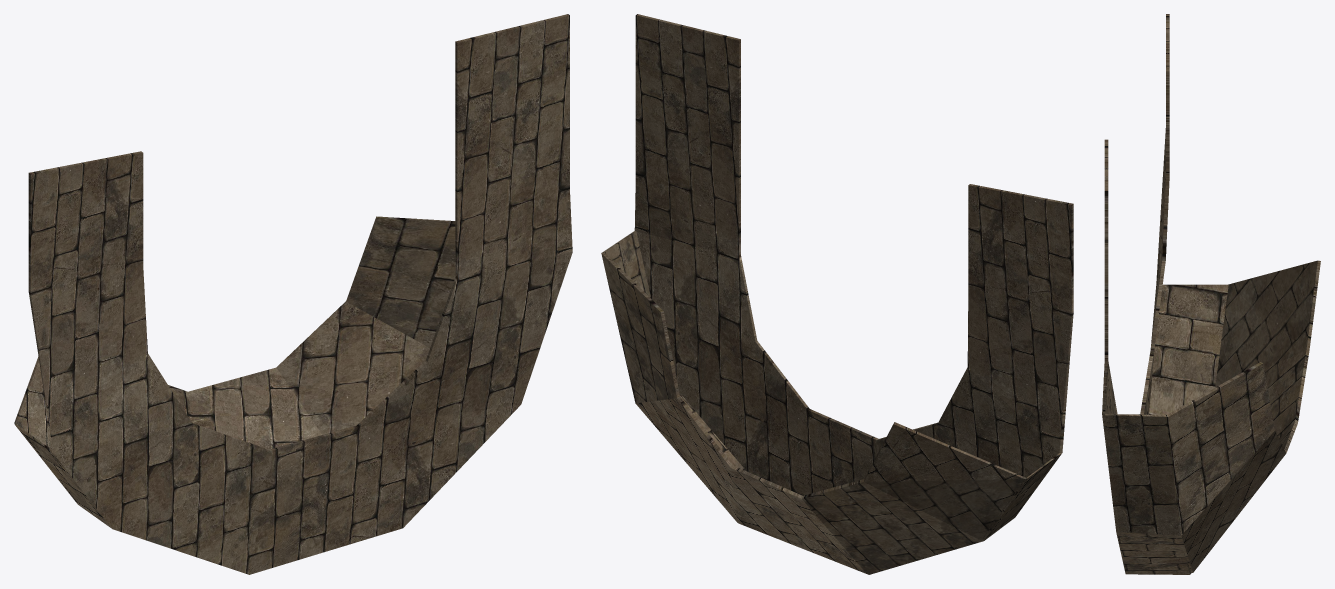
File: building3-lod1.dae
The picture shows the model from 3 angles, left to right: view 1: azimuth 30°, elevation 25°; view 2: azimuth 150°, elevation 25°; view 3: azimuth 270°, elevation 25°; orthographic projection. The views are drawn at different scales.
Visible parts, largest first — view 1: ground; view 2: ground; view 3: ground.
Boxes of the visible parts, x1,y1,x2,y2 form: ground: [14, 14, 572, 574]; ground: [601, 14, 1073, 574]; ground: [1102, 14, 1320, 574].
Size of the model in its own units: 18.2 by 7.15 by 16.92.
